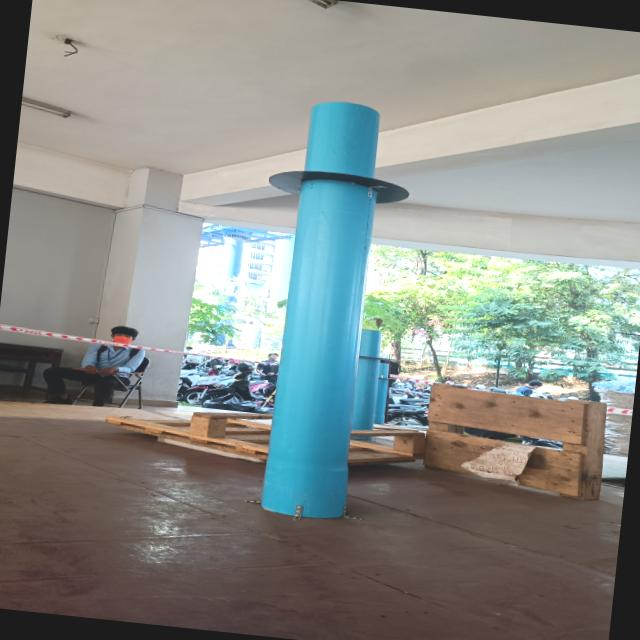pole: (219, 84, 456, 268)
